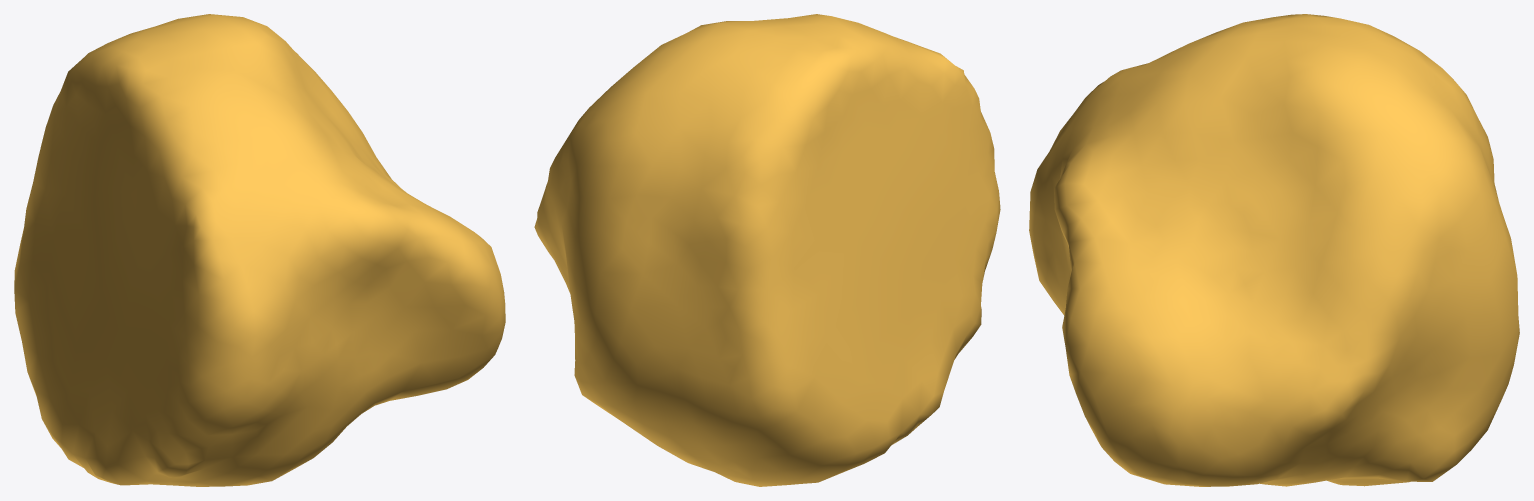
3 views of the same model, side by side, from view 1: azimuth 30°, elevation 25°; view 2: azimuth 150°, elevation 25°; view 3: azimuth 270°, elevation 25° (orthographic). The views are drawn at different scales.
Parts seen in each view (by area): view 1: 5_amber_lr; view 2: 5_amber_lr; view 3: 5_amber_lr.
Boxes of the visible parts, <box> form: 5_amber_lr: <box>14,14,505,486</box>; 5_amber_lr: <box>534,14,1000,486</box>; 5_amber_lr: <box>1029,14,1519,486</box>.
Bounding box in the file's own units: 87.92 × 99.67 × 97.25.
